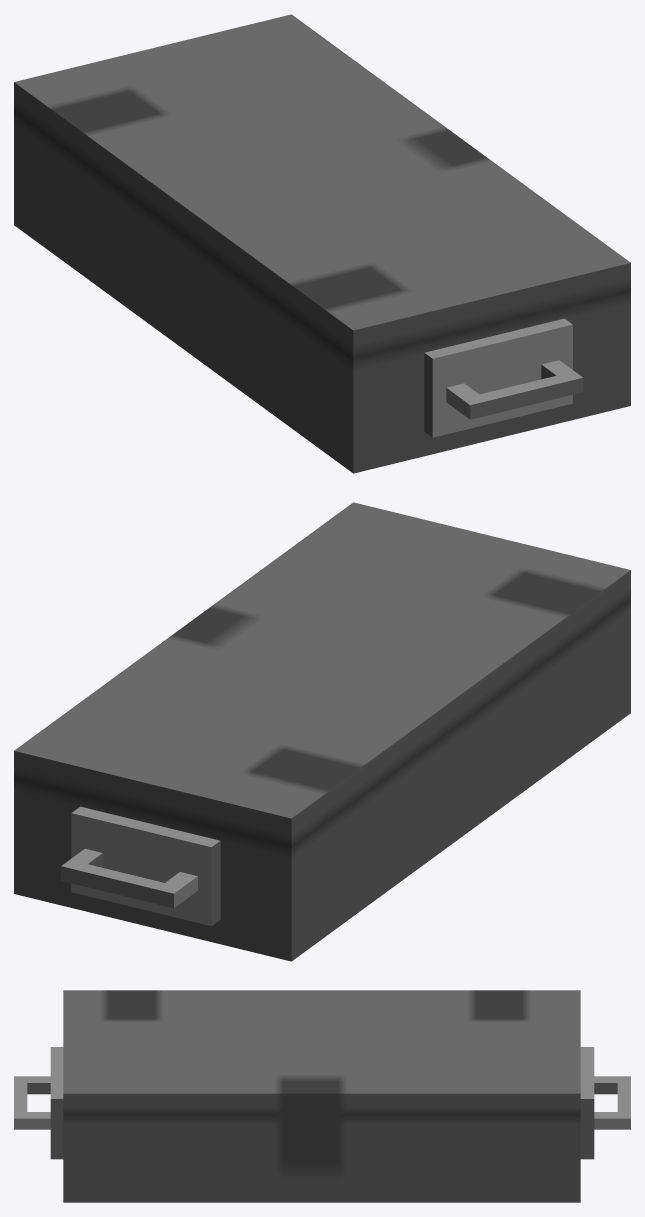
The model's file is SM_Prop_Metal_Box_04.fbx.
3 renders of one model, top to bottom at view 1: azimuth 30°, elevation 25°; view 2: azimuth 150°, elevation 25°; view 3: azimuth 270°, elevation 25°, orthographic. The views are drawn at different scales.
Parts seen in each view (by area): view 1: SM_Prop_Metal_Box_04; view 2: SM_Prop_Metal_Box_04; view 3: SM_Prop_Metal_Box_04.
Part boxes in pixels (x1,y1,x2,y2): SM_Prop_Metal_Box_04: (14, 14, 630, 473); SM_Prop_Metal_Box_04: (14, 502, 630, 961); SM_Prop_Metal_Box_04: (14, 990, 630, 1202).
Bounding box in the file's own units: 0.969 × 0.4774 × 2.45.
